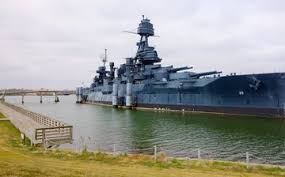tau_muctieu: (79, 32, 285, 118)
